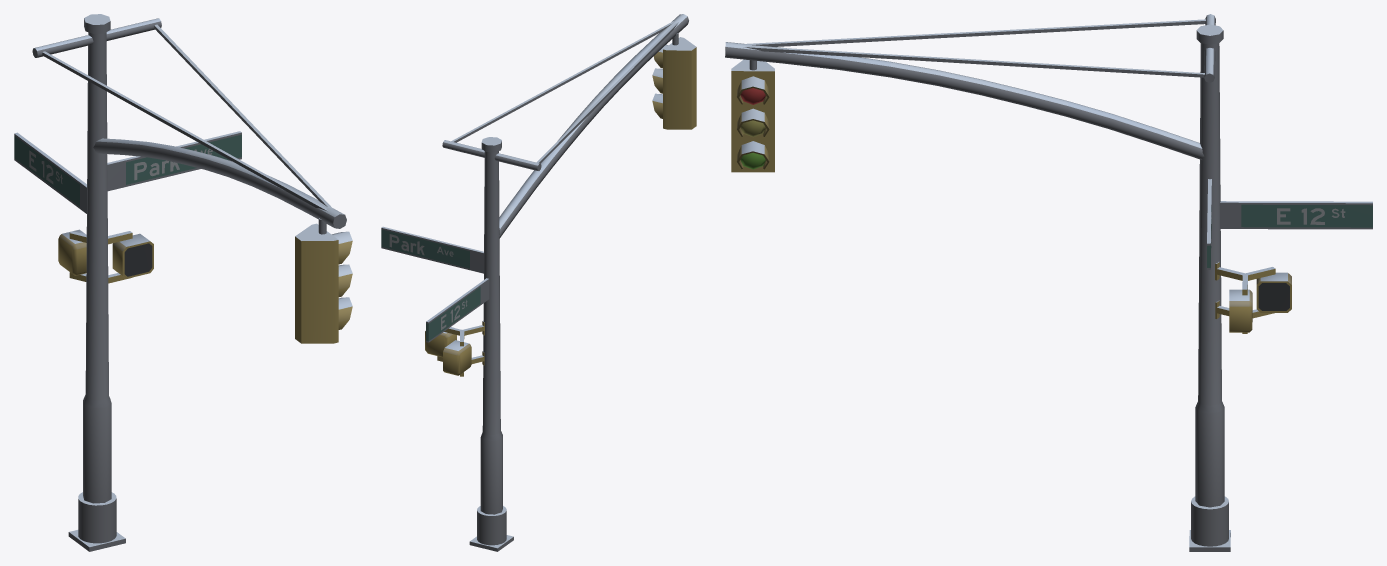
The model's file is traffic_light_arm.glb.
3 views of the same model, side by side, from view 1: azimuth 30°, elevation 25°; view 2: azimuth 150°, elevation 25°; view 3: azimuth 270°, elevation 25° (orthographic). The views are drawn at different scales.
Parts seen in each view (by area): view 1: Prop; view 2: Prop; view 3: Prop.
Boxes of the visible parts, x1=… form: Prop: x1=14, y1=14, x2=352, y2=551; Prop: x1=381, y1=14, x2=696, y2=551; Prop: x1=725, y1=14, x2=1372, y2=551.
Bounding box in the file's own units: 1.92 × 4.66 × 5.34.
